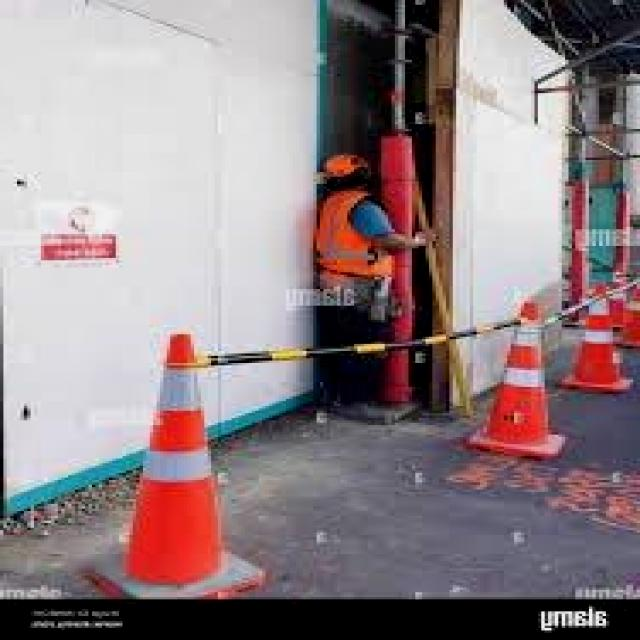no_helmet: (321, 154, 369, 174)
no_vest: (311, 190, 393, 280)
person: (307, 152, 445, 420)
safety_cone: (80, 330, 266, 600), (474, 300, 569, 456), (546, 286, 634, 394), (616, 285, 640, 350)
